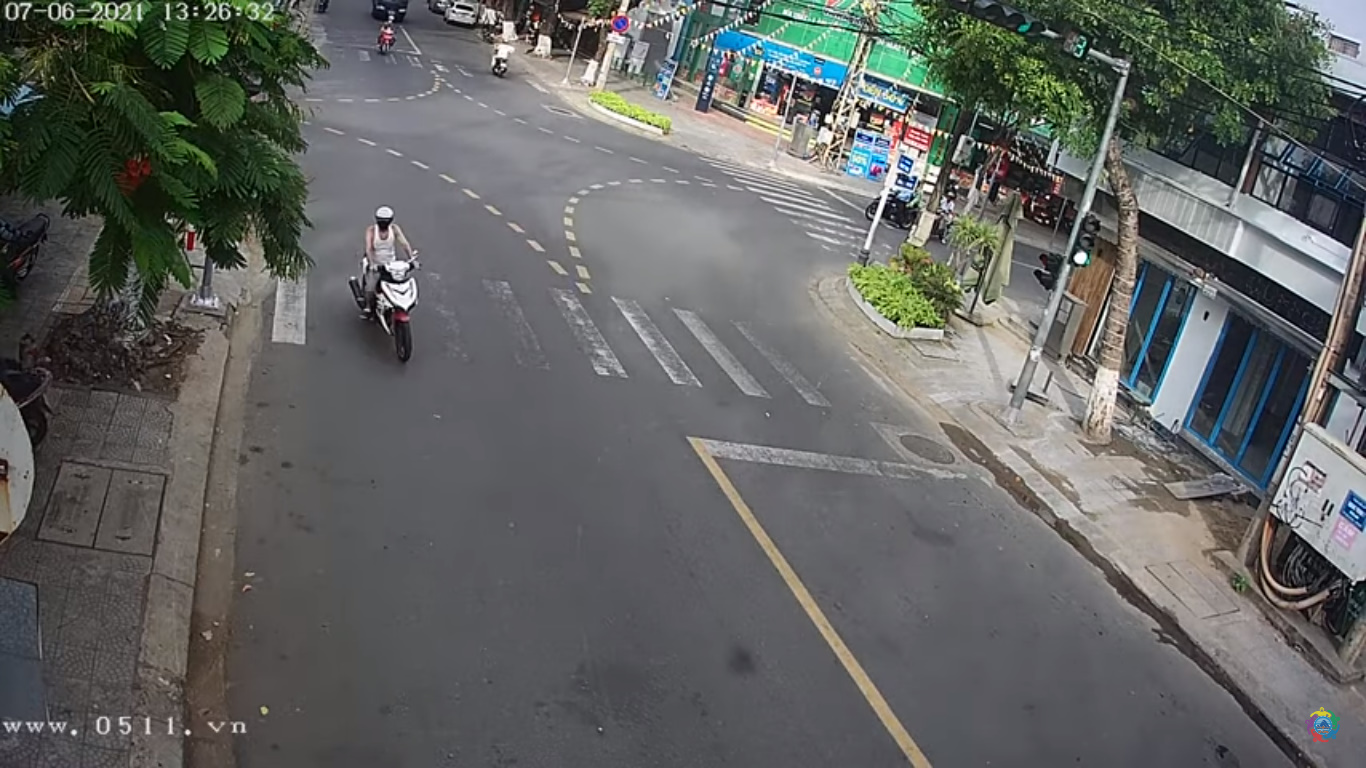motorbike: (353, 204, 434, 362)
